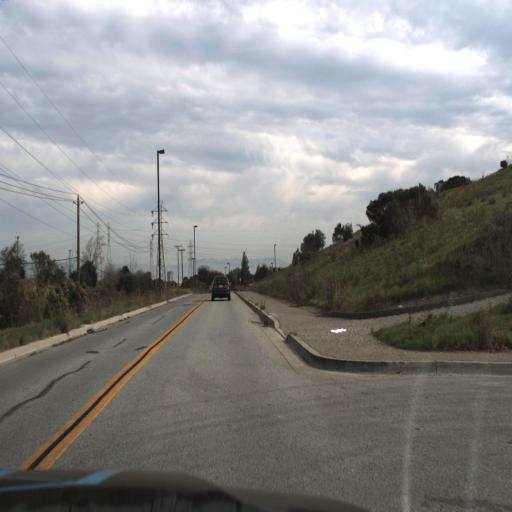car: (208, 269, 230, 301)
